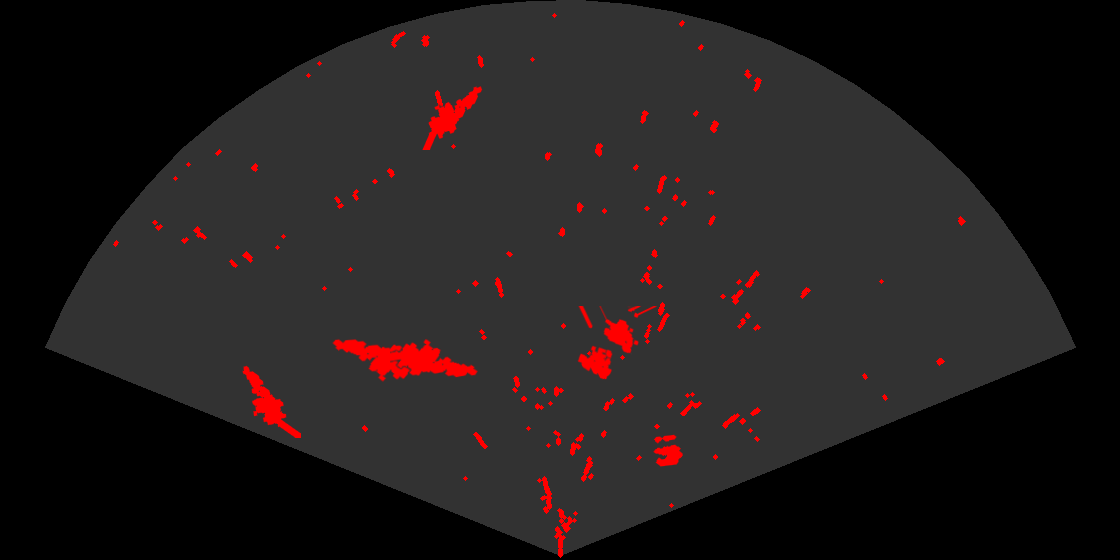ball: (652, 433, 684, 468)
cage: (576, 306, 658, 381)
frogman: (241, 364, 301, 438), (421, 85, 484, 150), (331, 337, 420, 383), (390, 337, 479, 379)
